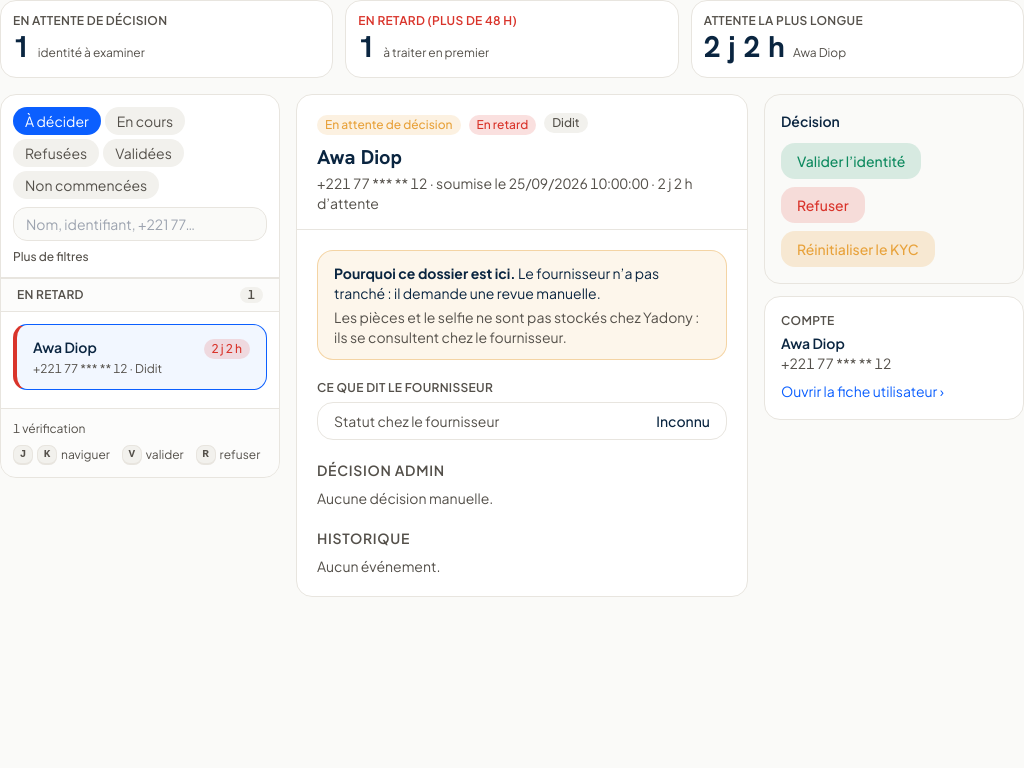
Test: /kyc › après une décision, le dossier est mis à jour, reste affiché et la file relue
Click the button with test id "kyc-approve": (851, 161) [781,143,922,179]
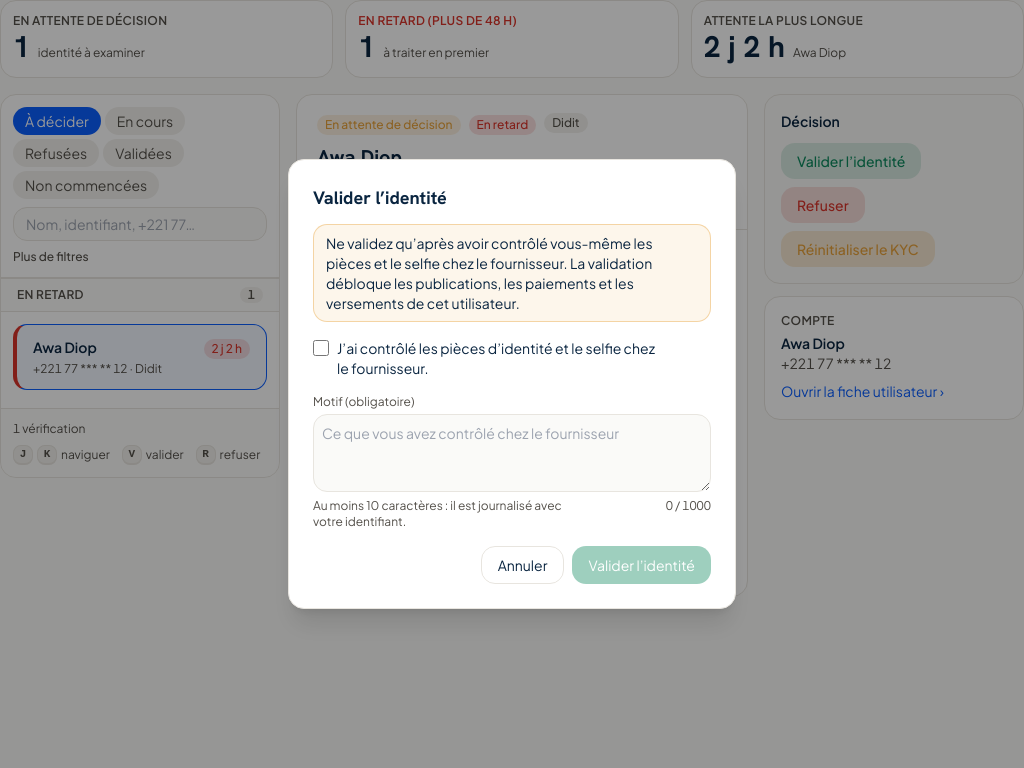
Click the checkbox with test id "kyc-checked": (321, 348) [313,340,329,356]
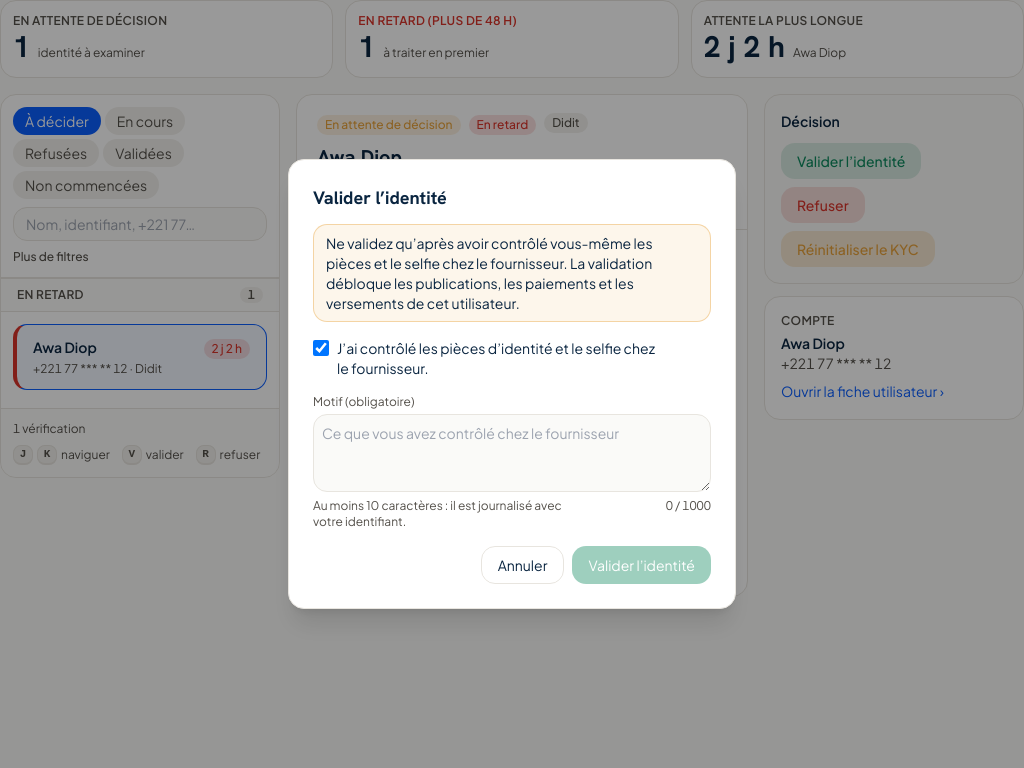
In the text box with test id "kyc-reason": (512, 453) [313,414,711,492], type "Pièces contrôlées chez Didit, conformes."
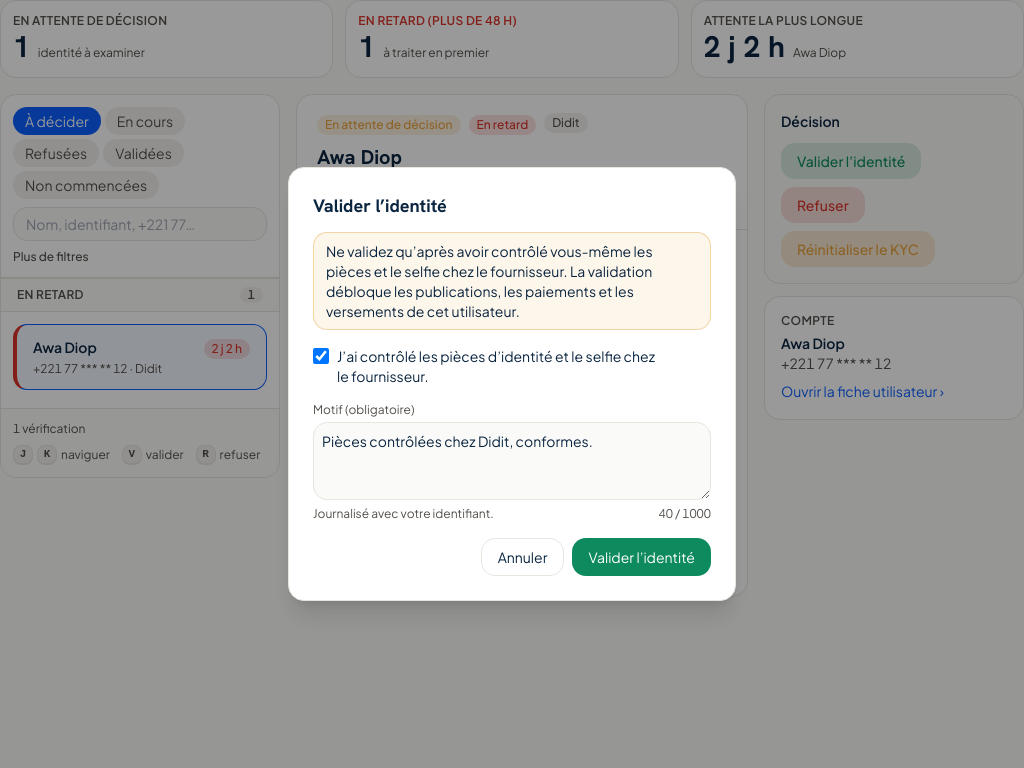
Click the button with test id "kyc-dialog-submit": (642, 557) [572,538,711,576]
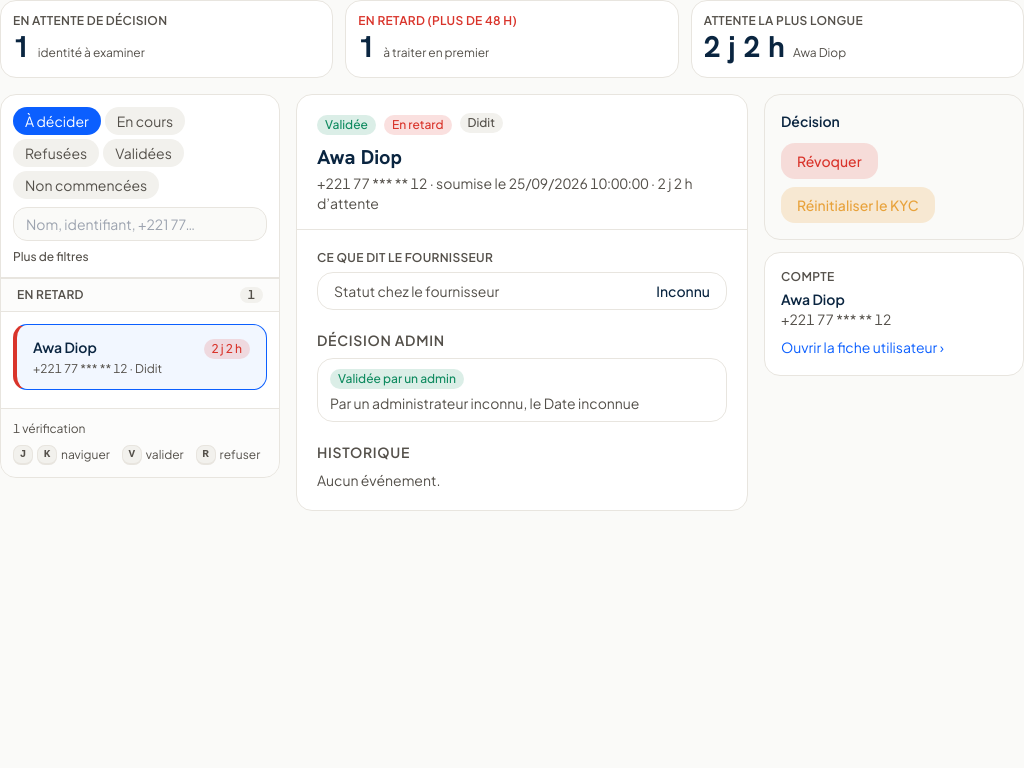
expect the element with test id "kyc-decision" shows "Validée par un admin": met, box [338,371,456,386]
expect the button with test id "kyc-revoke" is shown: met, box [781,143,878,179]
expect the element with test id "kyc-detail-status" reads "Validée": met, box [325,117,368,132]
